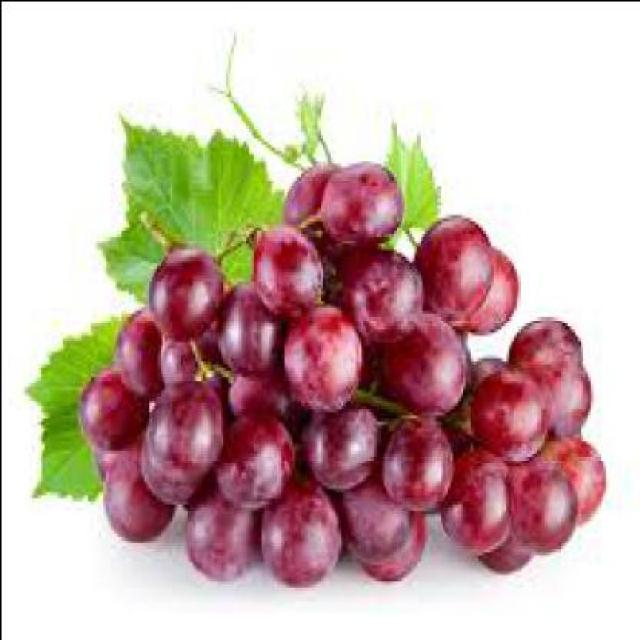BIODEGRADABLE: (97, 111, 283, 302), (30, 306, 138, 500), (260, 468, 345, 582), (380, 303, 472, 408), (413, 210, 495, 322), (281, 296, 364, 404), (331, 242, 424, 335), (148, 373, 225, 478), (188, 469, 261, 573), (216, 411, 296, 503), (444, 443, 514, 548), (377, 124, 438, 244), (320, 157, 402, 246), (474, 366, 554, 456), (336, 468, 416, 557), (256, 220, 330, 315), (510, 315, 584, 408), (150, 242, 224, 332), (303, 404, 383, 484), (530, 433, 607, 516), (508, 458, 578, 548), (385, 411, 453, 503), (449, 242, 517, 328), (219, 277, 284, 363), (82, 360, 146, 443), (357, 506, 428, 577), (114, 302, 164, 398), (145, 423, 207, 500), (286, 152, 336, 232), (280, 89, 332, 163), (232, 360, 296, 414), (160, 325, 214, 386), (554, 359, 594, 433), (480, 525, 535, 567), (357, 338, 385, 385), (472, 353, 510, 385)
